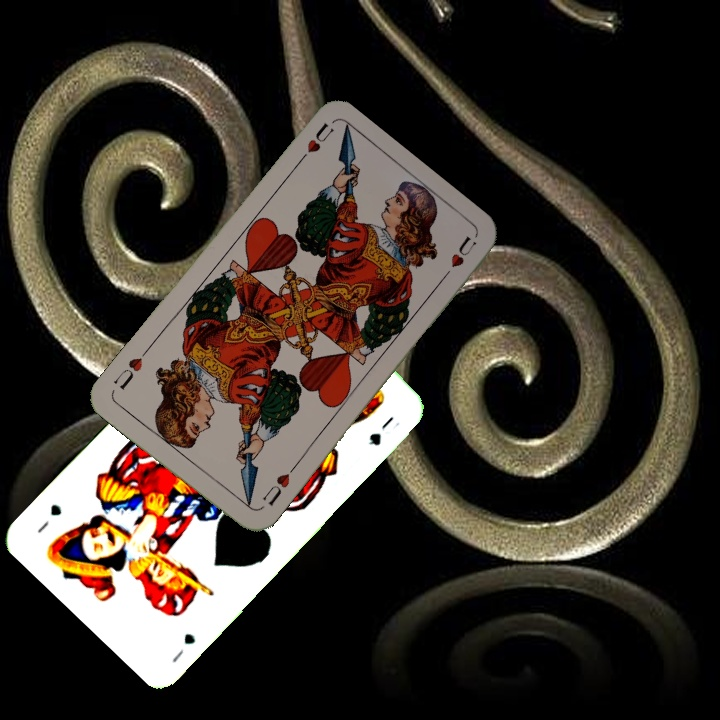GU: (168, 629, 199, 666)
HU: (292, 119, 337, 169), (258, 462, 298, 509)
